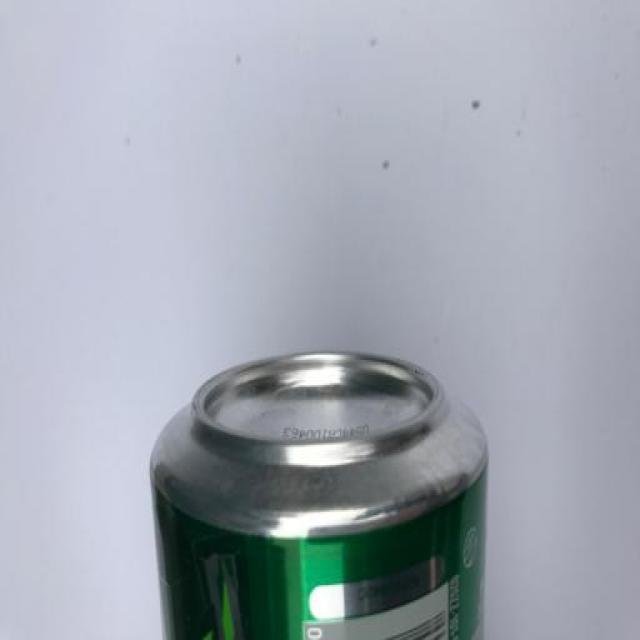metel: (150, 372, 524, 640)
